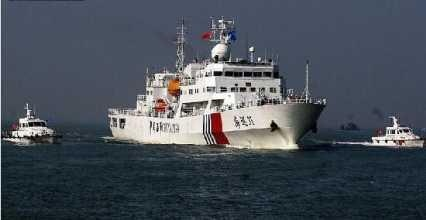otherboat: (9, 99, 59, 146), (364, 116, 422, 150)
warship: (101, 12, 336, 151)
